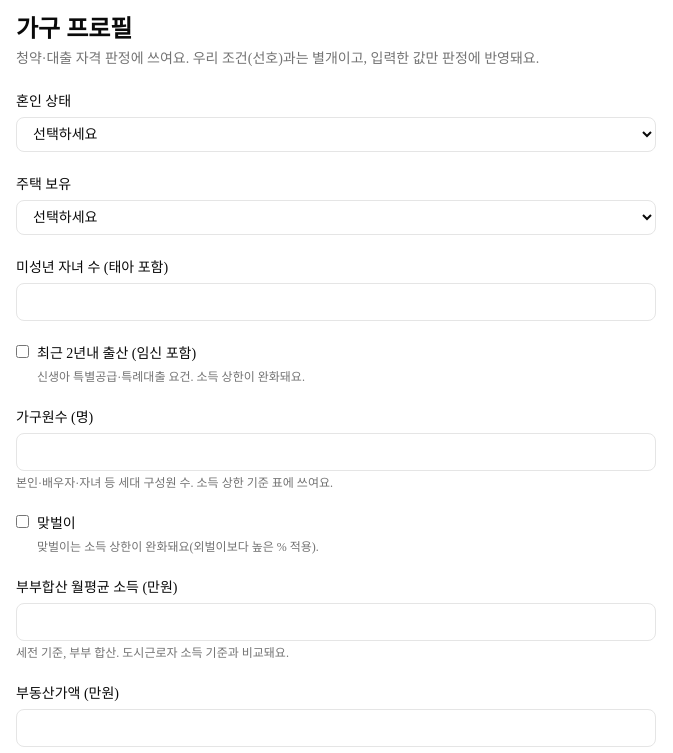
it: ProfileFeature › 법적 혼인 선택 시 혼인 기간 입력이 나타난다
Expected: the field labelled "혼인 기간 (개월)" is not shown
Select "법적 혼인(혼인신고 완료)" in the dropdown labelled "혼인 상태" at [336, 134], box [16,117,656,152]
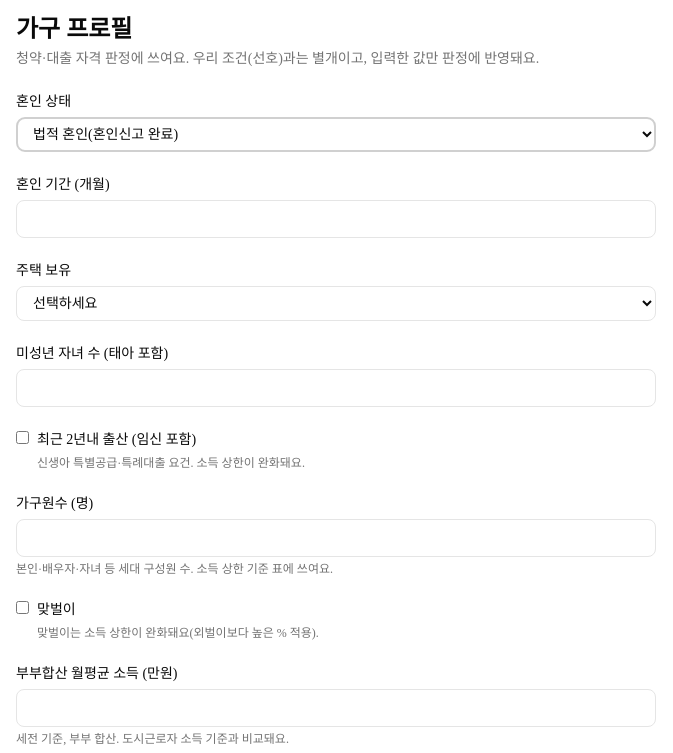
Expected: the number field labelled "혼인 기간 (개월)" is shown, [16,200,656,238]
